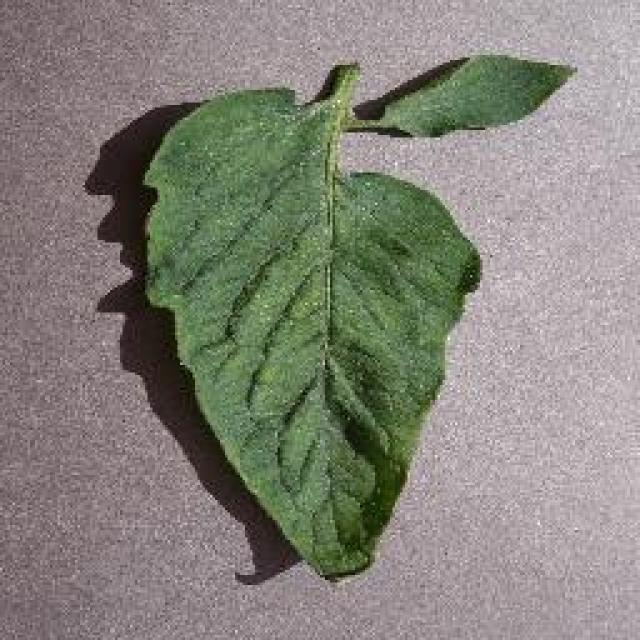Tomato___Spider_mites Two-spotted_spider_mite: (145, 55, 568, 578)
